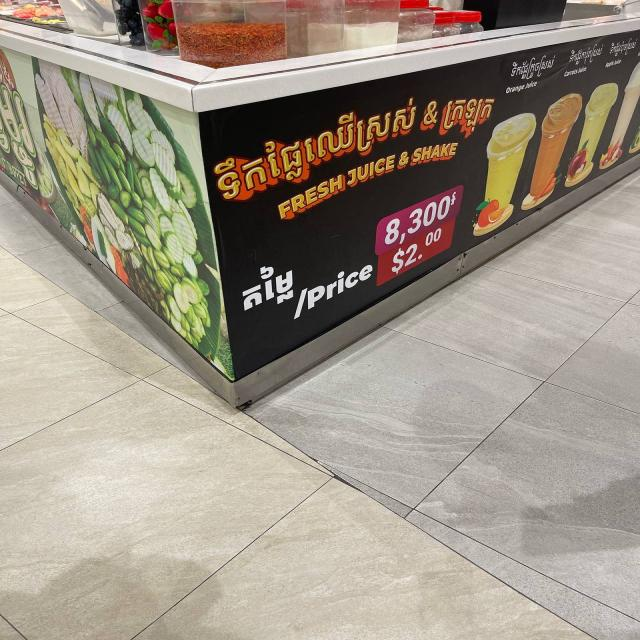893: (228, 251, 311, 320)
Yolov11kh: (208, 92, 434, 208), (440, 90, 502, 133)
